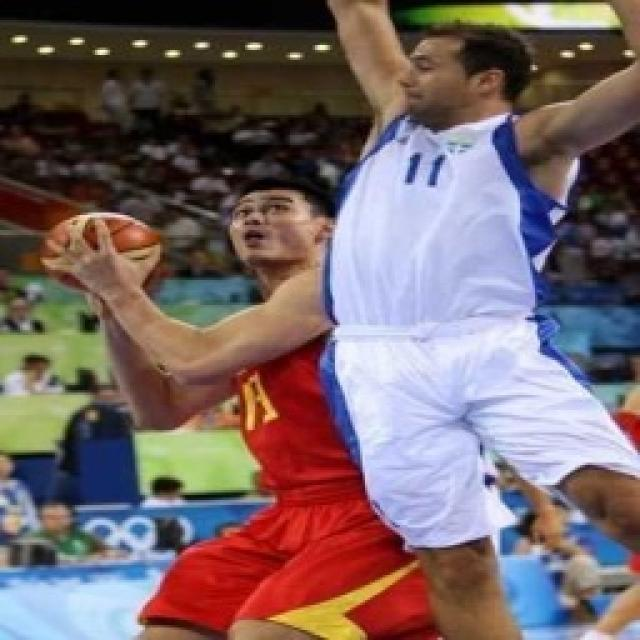rim: (36, 204, 154, 298)
